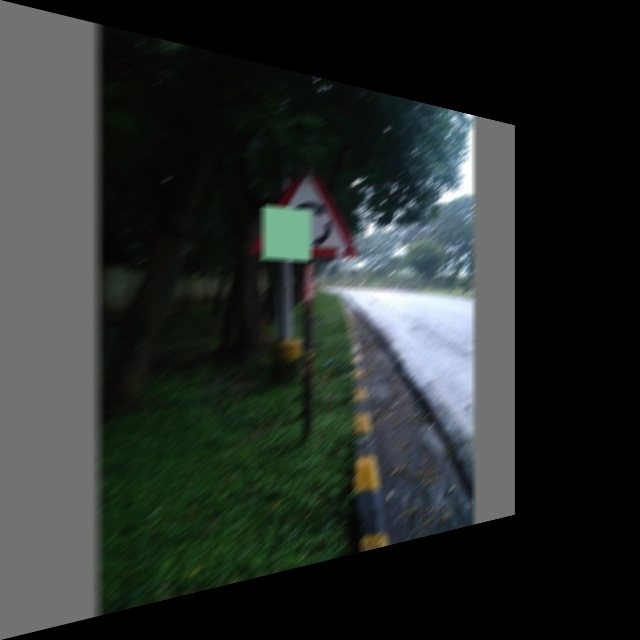Round_About: (245, 152, 360, 266)
